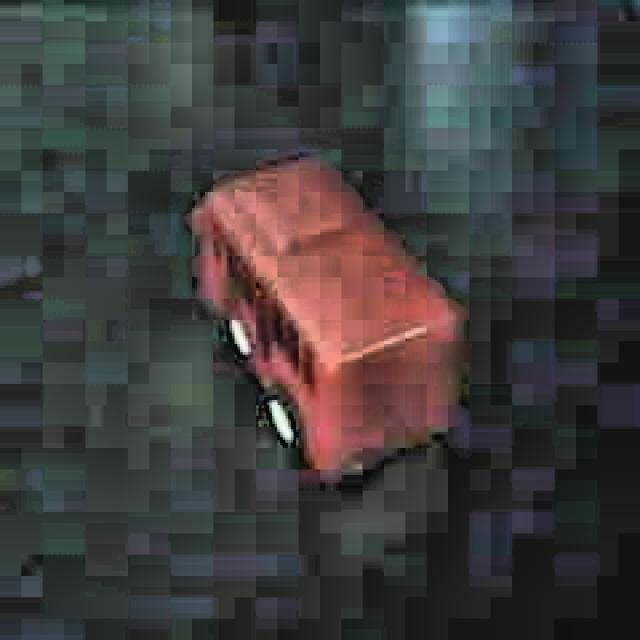bus: (186, 150, 460, 487)
